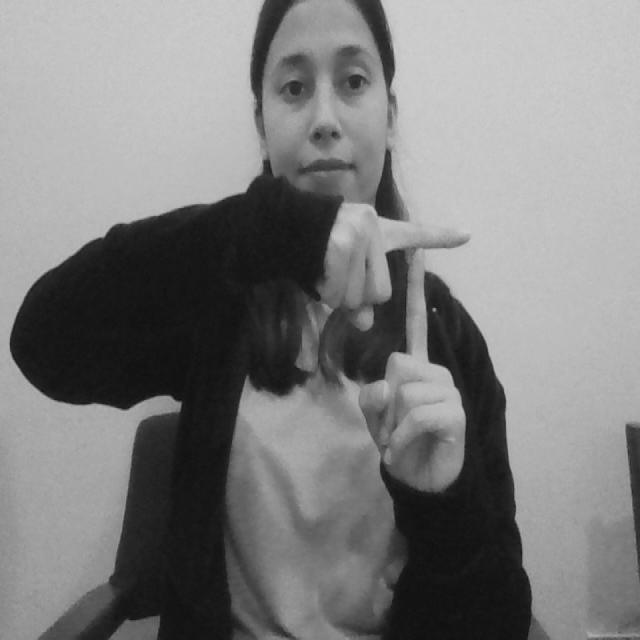Tesekkurler: (366, 198, 477, 390)
